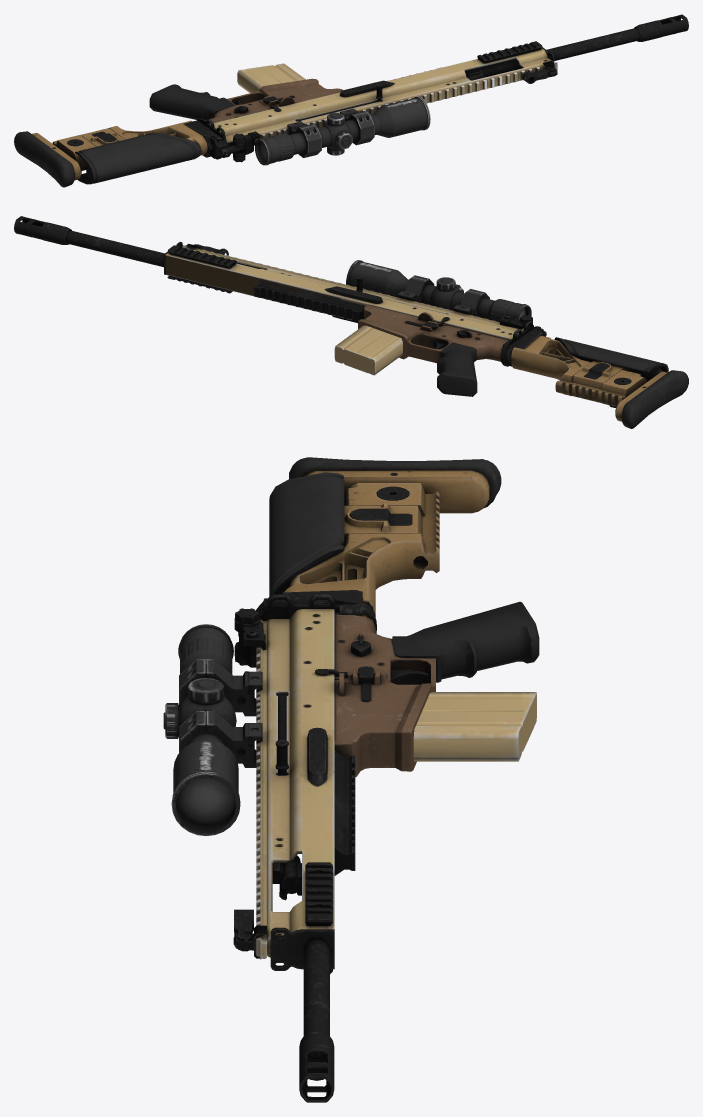
File: SCAR-20_0.glb
3 views of the same model, one above another, from view 1: azimuth 30°, elevation 25°; view 2: azimuth 150°, elevation 25°; view 3: azimuth 270°, elevation 25° (orthographic). The views are drawn at different scales.
Parts seen in each view (by area): view 1: SCAR-20_Body, SCAR-20_Mag; view 2: SCAR-20_Body, SCAR-20_Mag; view 3: SCAR-20_Body, SCAR-20_Mag.
Boxes of the visible parts, box(x1,y1,x2,y2) form: SCAR-20_Body: box(14, 14, 688, 187); SCAR-20_Mag: box(237, 63, 305, 93); SCAR-20_Body: box(14, 216, 688, 428); SCAR-20_Mag: box(334, 325, 402, 375); SCAR-20_Body: box(163, 457, 539, 1102); SCAR-20_Mag: box(413, 692, 536, 761).
Bounding box in the file's own units: 0.9497 × 0.0577 × 0.2458.
1 material, 1 textured.
